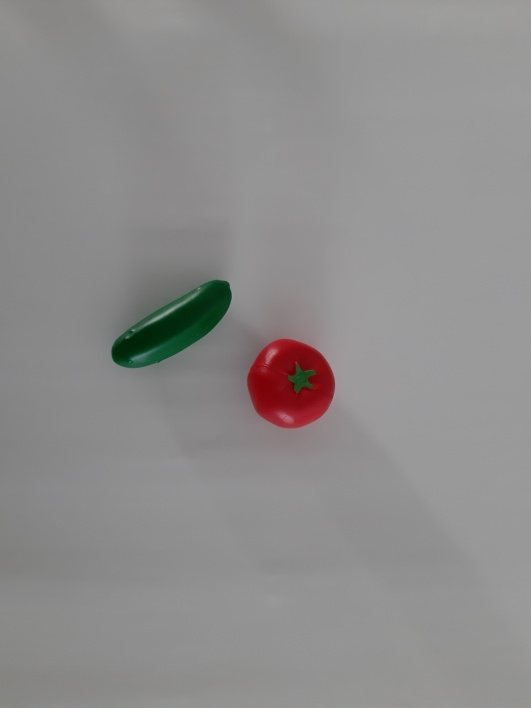cucumber: (103, 269, 250, 384)
tomato: (238, 330, 347, 437)
